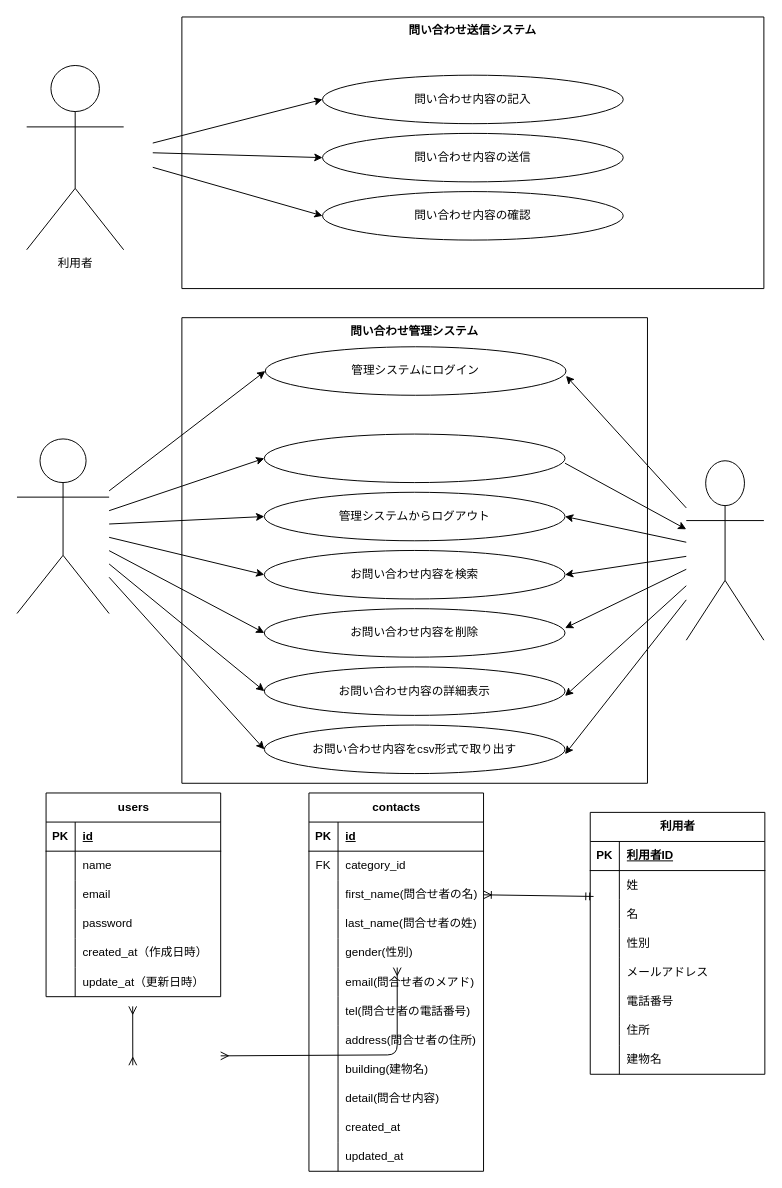
Image size: 782x1188. Some labels were removed from this diagram. Here are the shapes that lost their labels. From the top down, the centre of each, then its label:
At pixel 414 458: "新規ユーザーの作成・登録".
At pixel 62 526: "管理者".
At pixel 724 550: "新規管理者".
